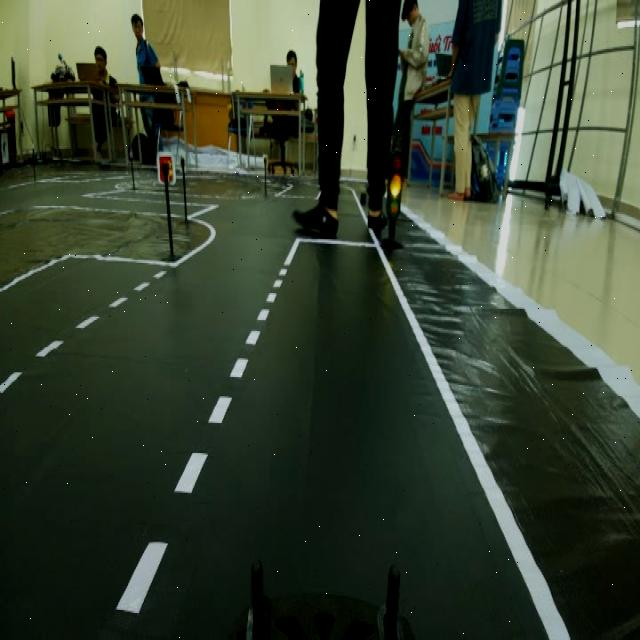trafficlight: (378, 142, 412, 262)
